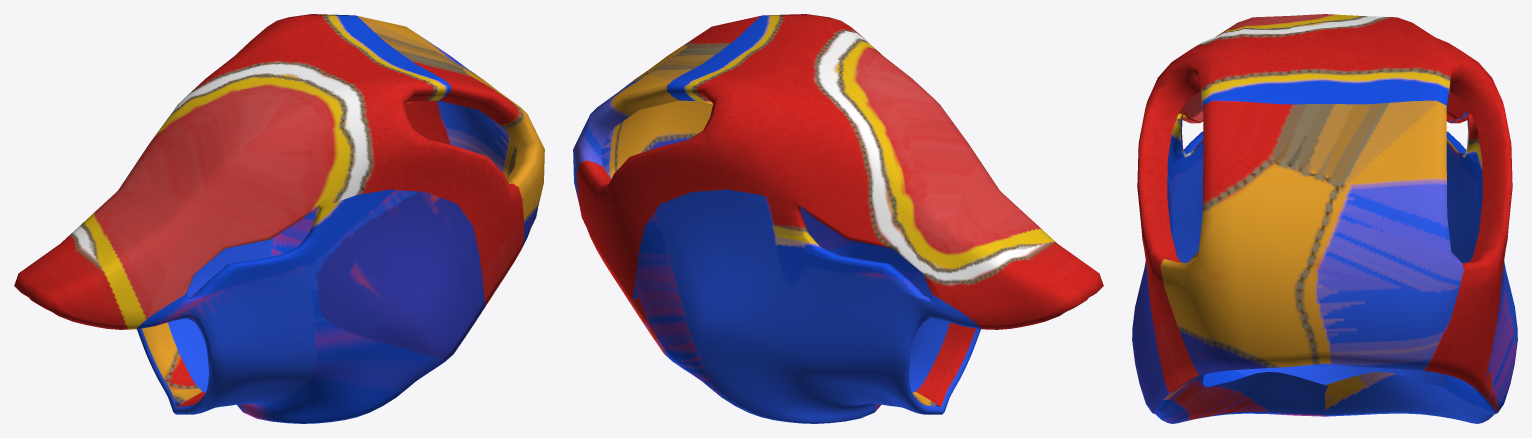
Rendered from SK_Mask_02.fbx.
The picture shows the model from 3 angles, left to right: view 1: azimuth 30°, elevation 25°; view 2: azimuth 150°, elevation 25°; view 3: azimuth 270°, elevation 25°; orthographic projection. The views are drawn at different scales.
Visible parts, largest first — view 1: Mask_02; view 2: Mask_02; view 3: Mask_02.
Boxes of the visible parts, x1=… form: Mask_02: x1=14, y1=14, x2=544, y2=423; Mask_02: x1=573, y1=14, x2=1103, y2=423; Mask_02: x1=1132, y1=14, x2=1517, y2=423.
Bounding box in the file's own units: 38.39 × 70.26 × 47.01.
1 material, 1 textured.
